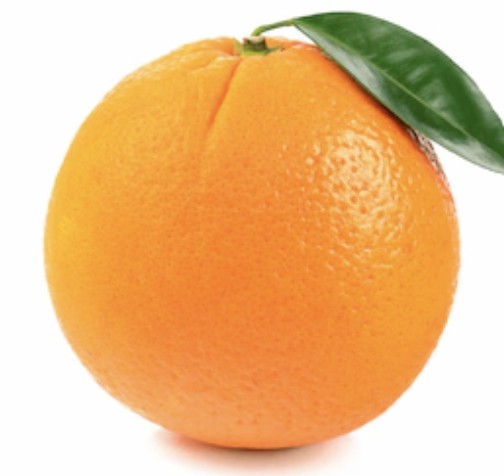fresh_orange: (44, 35, 462, 448)
